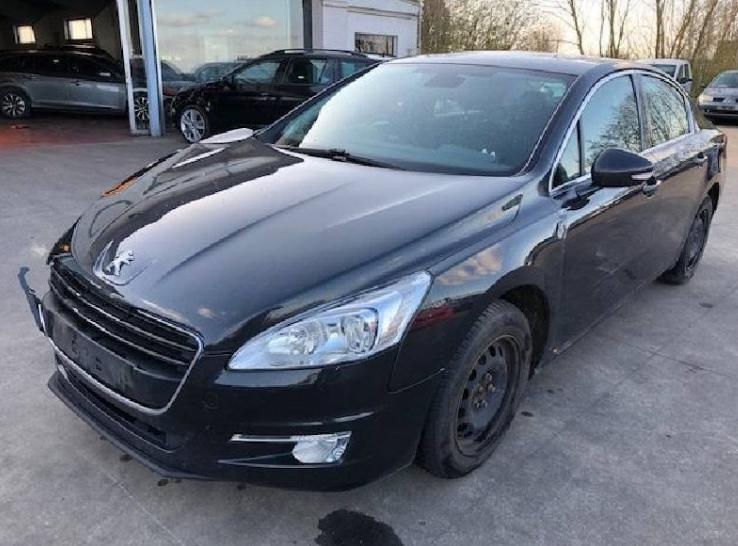Broken part: (101, 146, 184, 199), (18, 267, 46, 336)
Corrosion: (102, 177, 137, 202), (132, 176, 143, 186)
Dent: (171, 127, 257, 166)
Missing part: (49, 311, 137, 399), (52, 221, 78, 257)
Paint chip: (551, 348, 561, 355)
